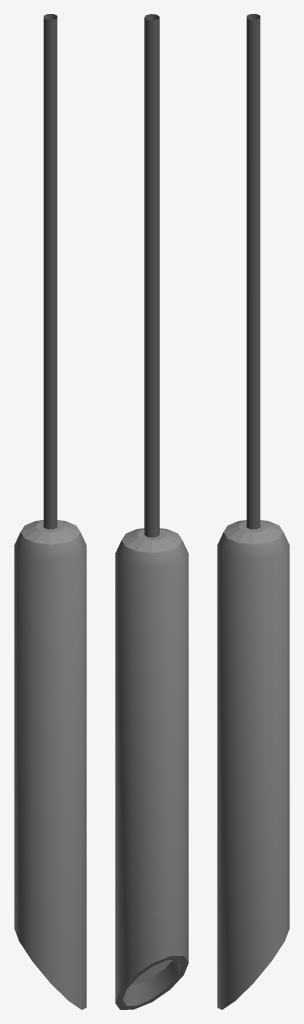
The model's file is Ceiling Lamp 1 B.fbx.
3 renders of one model, left to right at view 1: azimuth 90°, elevation 25°; view 2: azimuth 210°, elevation 25°; view 3: azimuth 270°, elevation 25°, orthographic.
Parts seen in each view (by area): view 1: Ceiling Lamp 1 B; view 2: Ceiling Lamp 1 B; view 3: Ceiling Lamp 1 B.
Part boxes in pixels (x1,y1,x2,y2): Ceiling Lamp 1 B: (14,14,86,1009); Ceiling Lamp 1 B: (115,14,188,1009); Ceiling Lamp 1 B: (217,14,289,1009).
Bounding box in the file's own units: 4 × 60.33 × 4.
